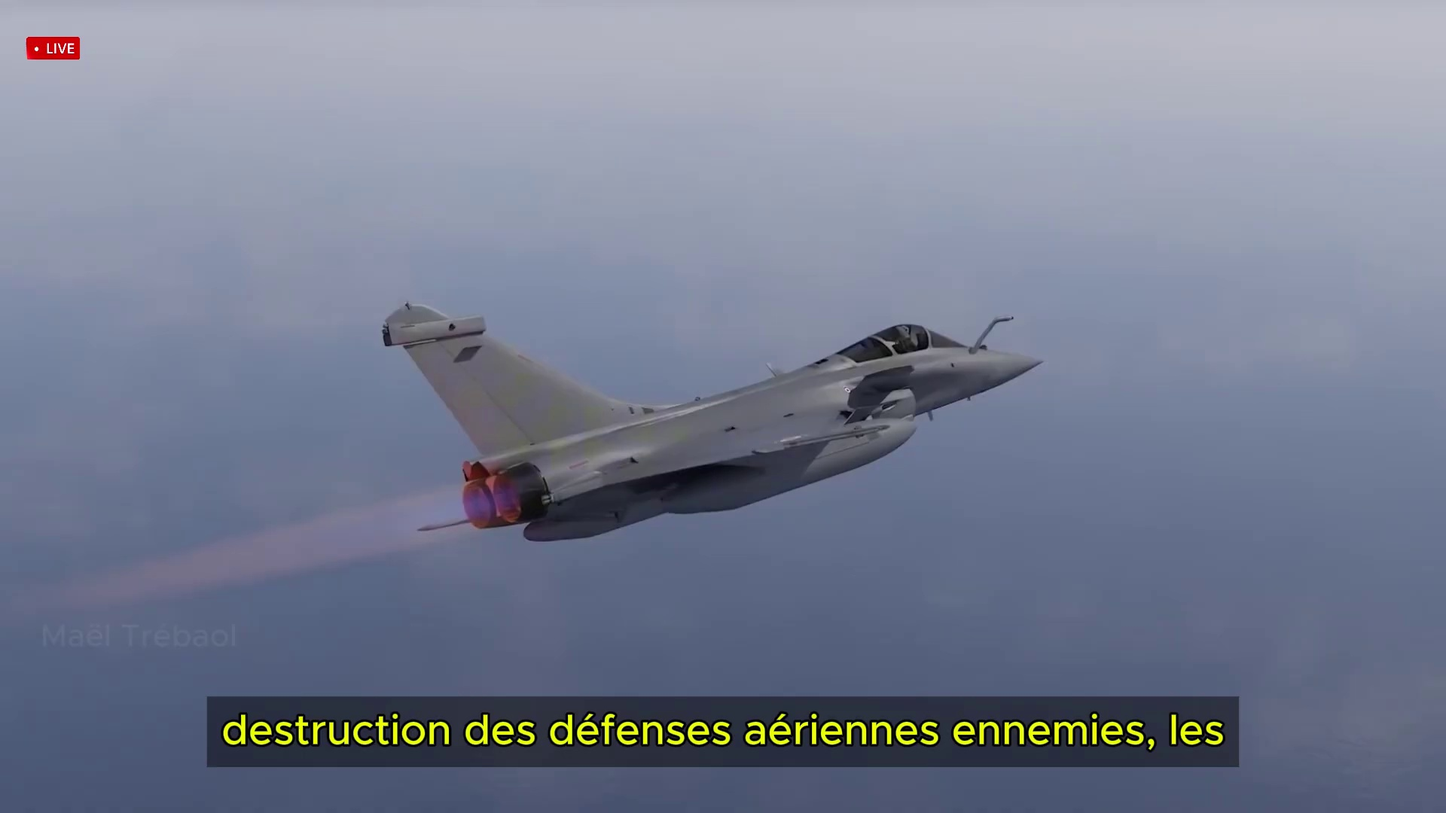Rafale: (383, 301, 1043, 540)
